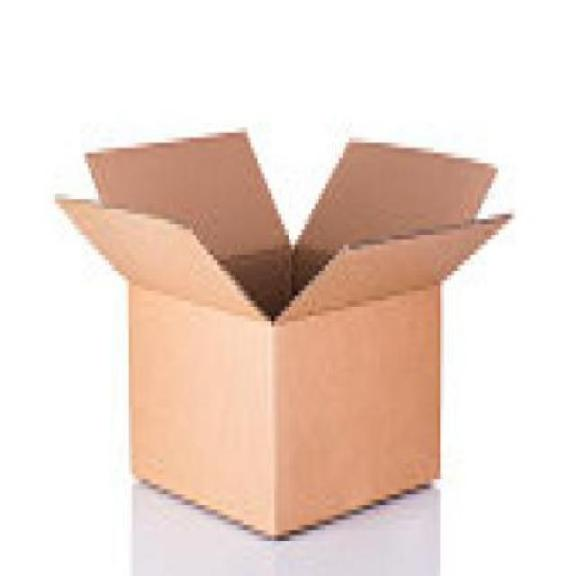Kertas: (47, 114, 508, 536)
